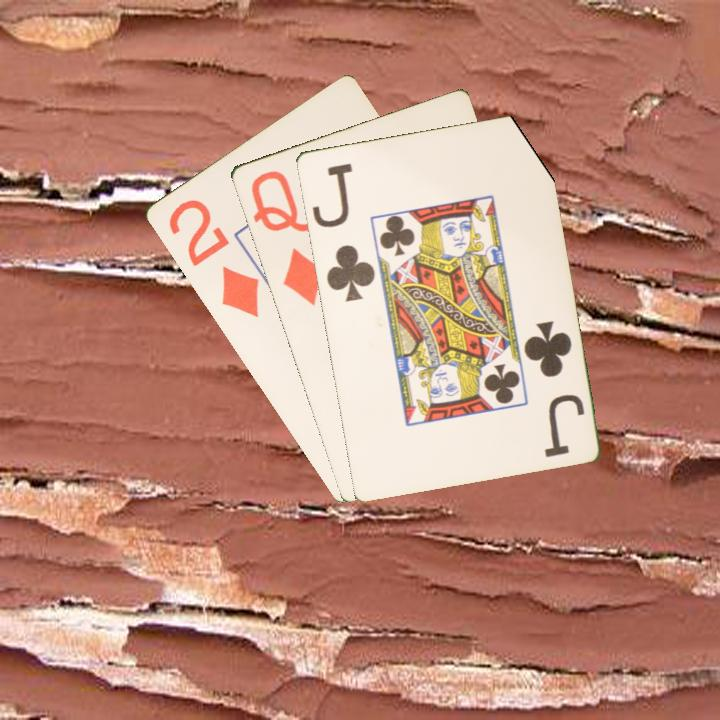2d: (164, 195, 262, 321)
Jc: (308, 159, 378, 304), (519, 317, 587, 460)
Qd: (247, 166, 327, 308)
